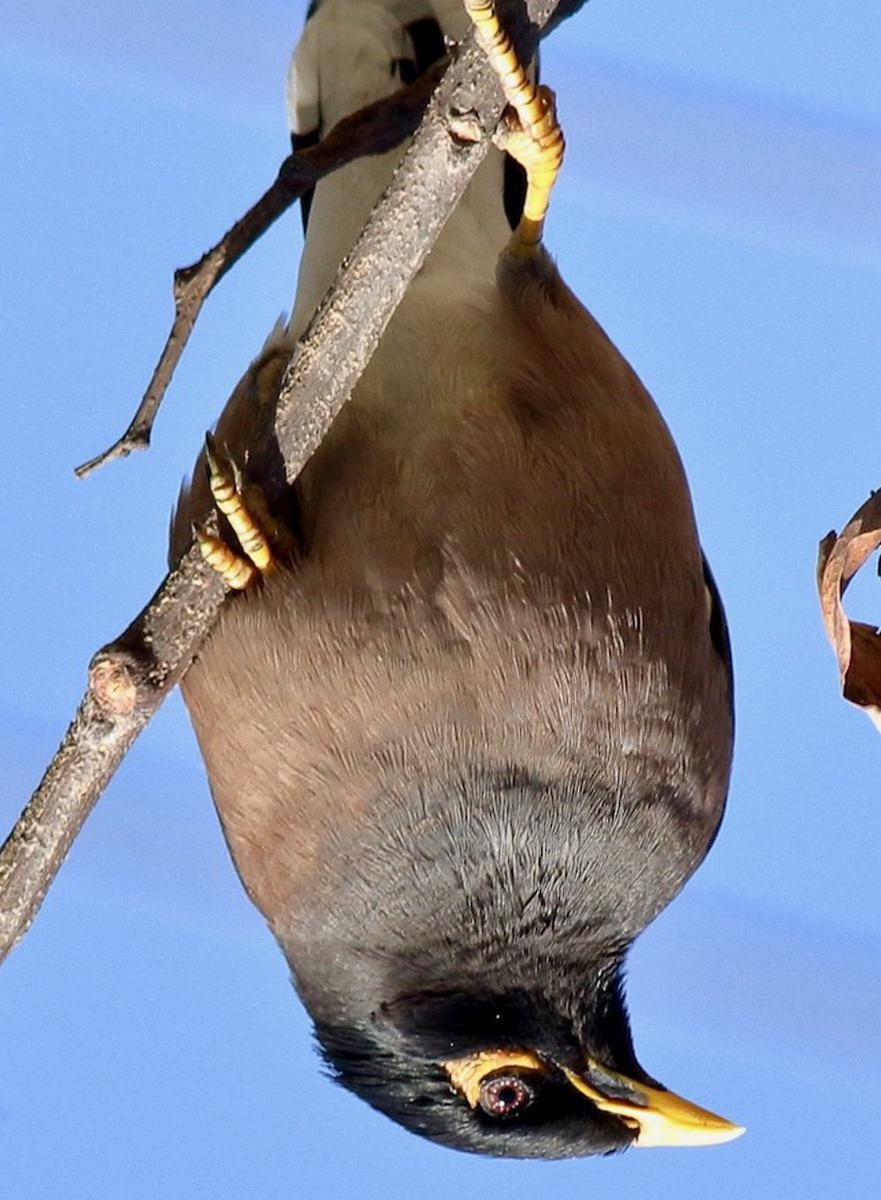myna: (155, 149, 761, 1185)
